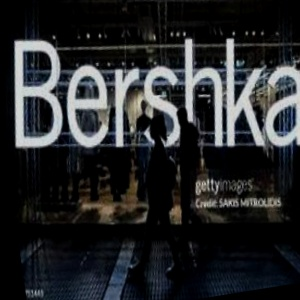bershka: (276, 13, 300, 46)
